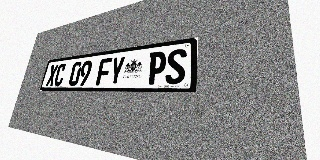0: (68, 61, 83, 86)
9: (77, 60, 93, 86)
C: (53, 63, 67, 86)
F: (96, 57, 112, 85)
P: (146, 51, 167, 85)
S: (165, 48, 187, 84)
X: (46, 64, 59, 86)
Y: (108, 56, 126, 85)
